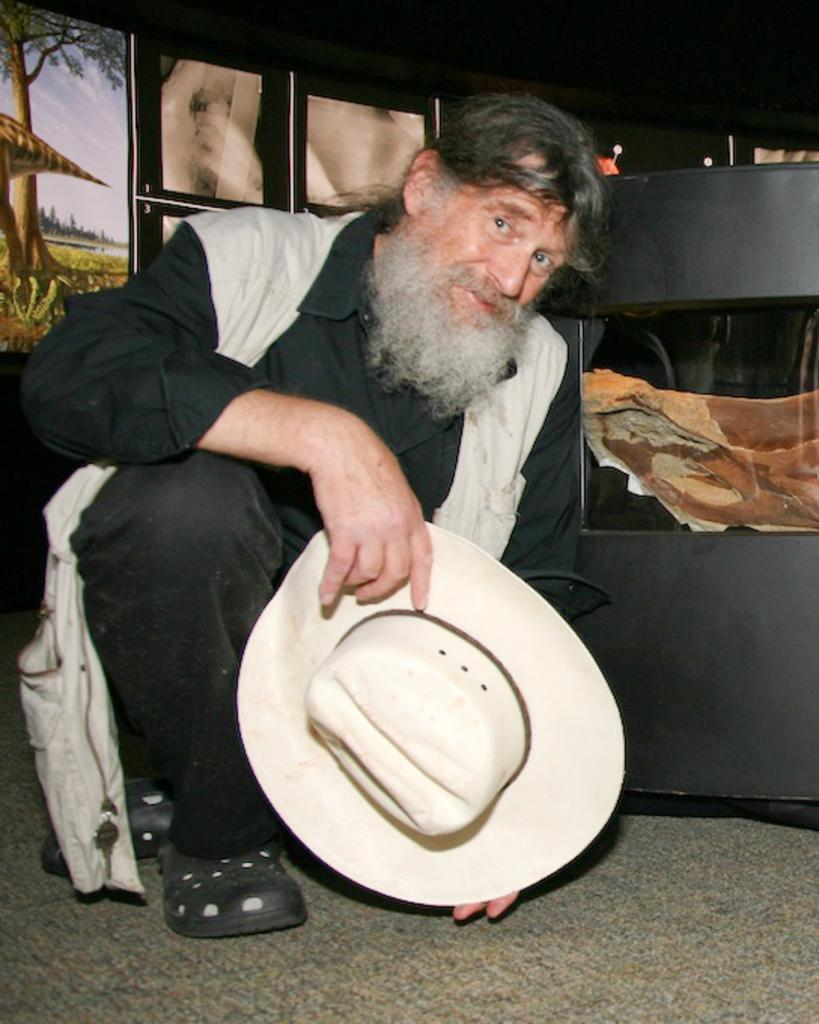Hat: (234, 514, 628, 910)
